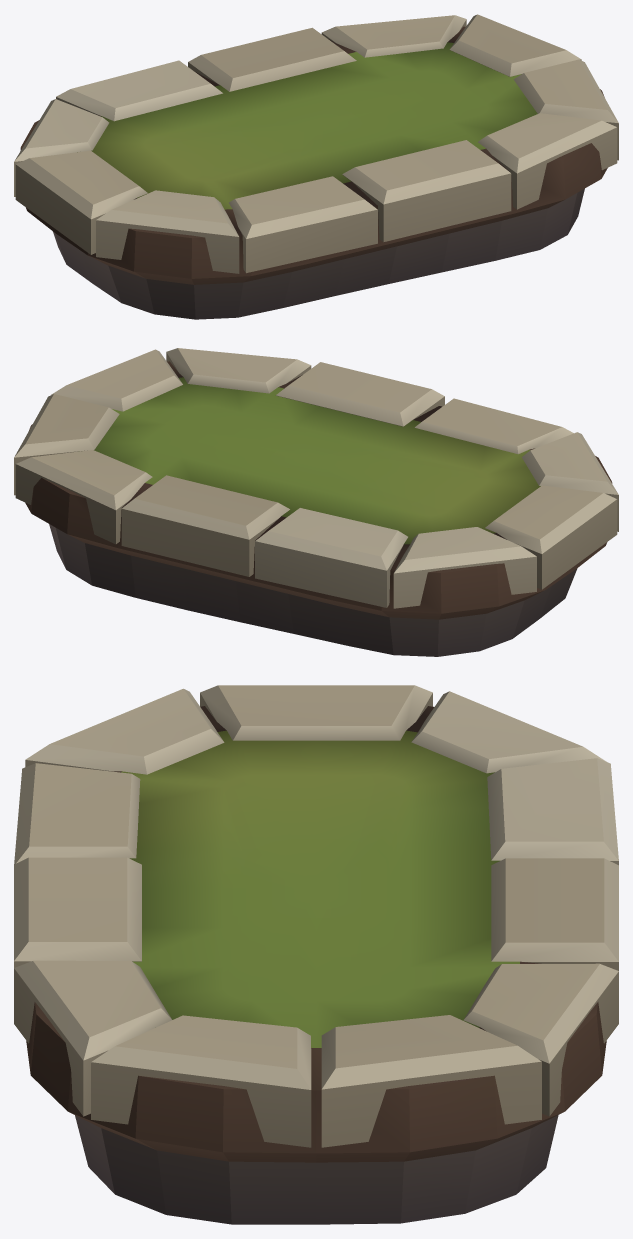
The model's file is plateforme_S.glb.
The picture shows the model from 3 angles, top to bottom: view 1: azimuth 30°, elevation 25°; view 2: azimuth 150°, elevation 25°; view 3: azimuth 270°, elevation 25°; orthographic projection. The views are drawn at different scales.
Parts seen in each view (by area): view 1: plateforme_S; view 2: plateforme_S; view 3: plateforme_S.
Boxes of the visible parts, x1,y1,x2,y2 form: plateforme_S: [14, 14, 618, 319]; plateforme_S: [14, 348, 618, 656]; plateforme_S: [14, 685, 618, 1224].
Size of the model in its own units: 3.26 by 1 by 2.08.
